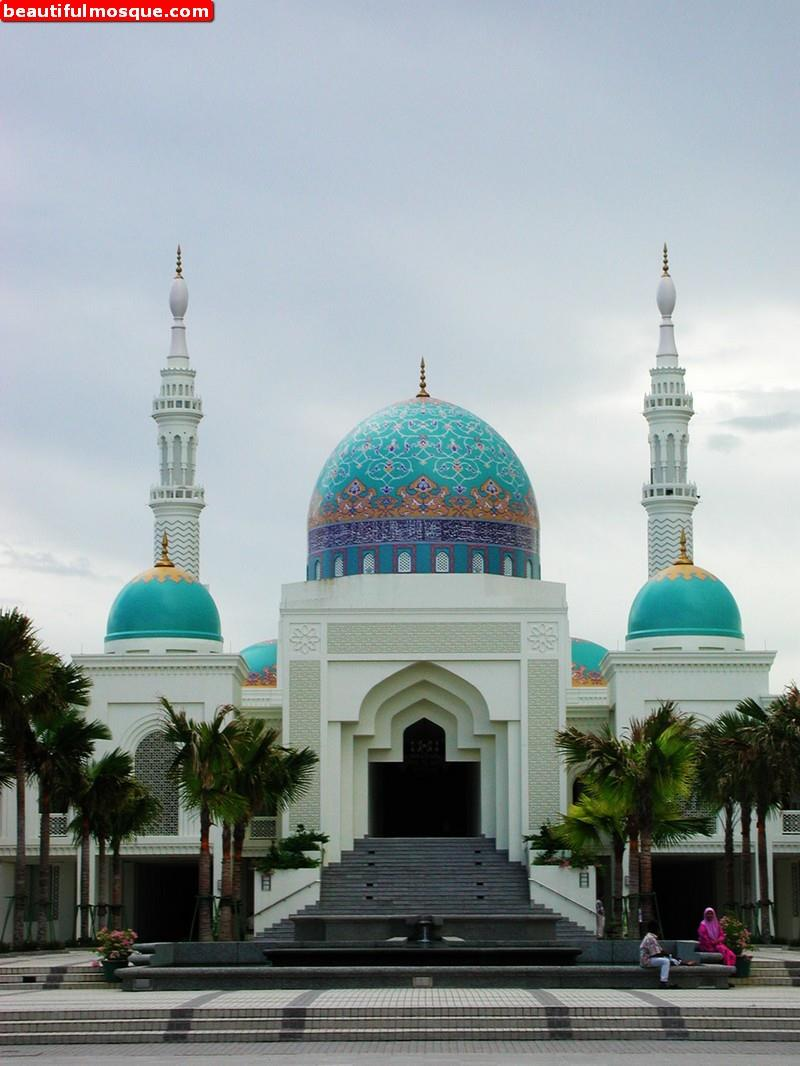Mosque: (65, 218, 799, 784)
